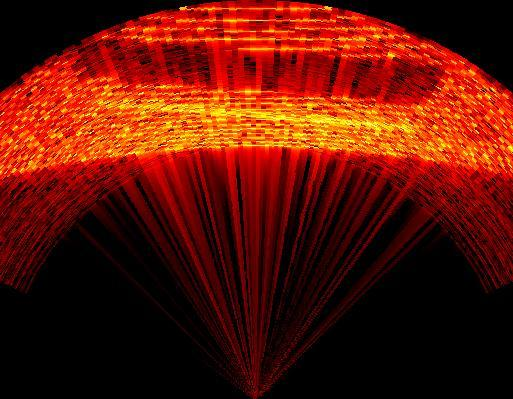pipe: (80, 41, 456, 102)
